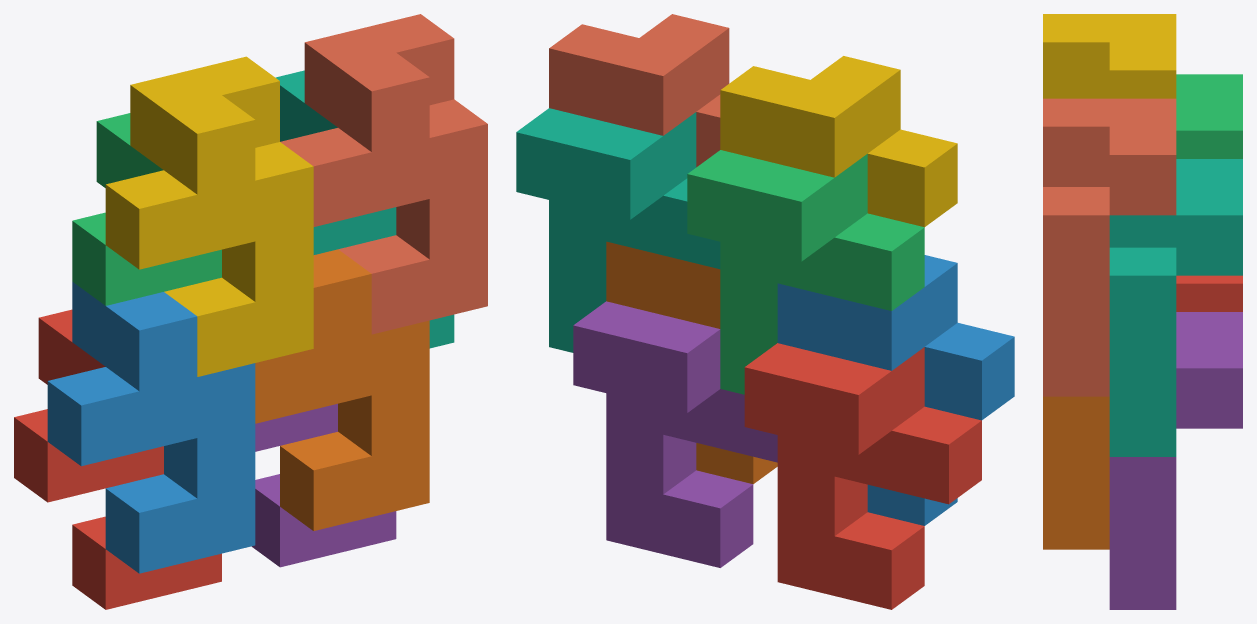
File: tiling.obj
3 views of the same model, side by side, from view 1: azimuth 30°, elevation 25°; view 2: azimuth 150°, elevation 25°; view 3: azimuth 270°, elevation 25° (orthographic).
Visible parts, largest first — view 1: copy_1_domain_4, copy_1_domain_8, copy_1_domain_2, copy_1_domain_6, copy_1_domain_1, copy_1_domain_3, copy_1_domain_5, copy_1_domain_7; view 2: copy_1_domain_1, copy_1_domain_5, copy_1_domain_3, copy_1_domain_7, copy_1_domain_4, copy_1_domain_2, copy_1_domain_8, copy_1_domain_6; view 3: copy_1_domain_8, copy_1_domain_7, copy_1_domain_5, copy_1_domain_4, copy_1_domain_6, copy_1_domain_3, copy_1_domain_1.
Part boxes in pixels (box(x1,y1,x2,y2)): copy_1_domain_4: box(105, 56, 313, 376); copy_1_domain_8: box(280, 14, 487, 334); copy_1_domain_2: box(47, 282, 255, 573); copy_1_domain_6: box(255, 249, 429, 530); copy_1_domain_1: box(14, 309, 221, 609); copy_1_domain_3: box(72, 113, 221, 305); copy_1_domain_5: box(251, 403, 396, 567); copy_1_domain_7: box(275, 70, 454, 348); copy_1_domain_1: box(744, 343, 981, 609); copy_1_domain_5: box(573, 301, 777, 567); copy_1_domain_3: box(687, 150, 924, 394); copy_1_domain_7: box(516, 108, 720, 352); copy_1_domain_4: box(720, 56, 957, 227); copy_1_domain_2: box(777, 255, 1014, 525); copy_1_domain_8: box(549, 14, 729, 167); copy_1_domain_6: box(606, 241, 777, 484); copy_1_domain_8: box(1043, 98, 1176, 396); copy_1_domain_7: box(1109, 159, 1242, 456); copy_1_domain_5: box(1109, 312, 1242, 609); copy_1_domain_4: box(1043, 14, 1176, 98); copy_1_domain_6: box(1043, 396, 1109, 549); copy_1_domain_3: box(1176, 74, 1242, 158); copy_1_domain_1: box(1176, 275, 1242, 311).
Bounding box in the file's own units: 7 × 8 × 3.
